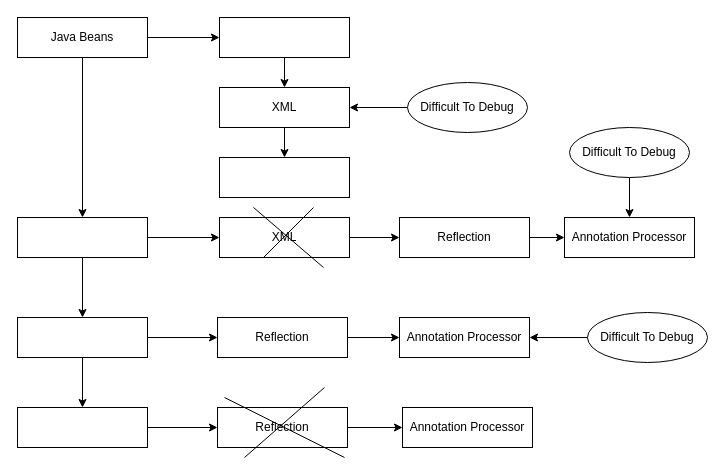
Image size: 725x476. Some labels were removed from this diagram. Here are the shapes that lost their labels. From the top down, the centre of each, then its label:
At (284,37): "Servlet".
At (284,177): "Spring".
At (82,237): "Juice".
At (82,337): "Dagger 1".
At (82,427): "Dagger 2".
